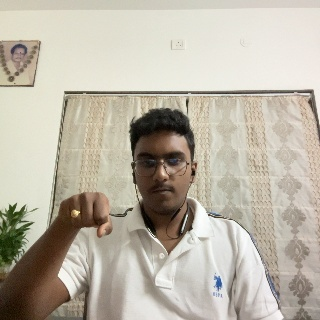Face: (134, 114, 199, 218)
Yes: (47, 191, 114, 244)
